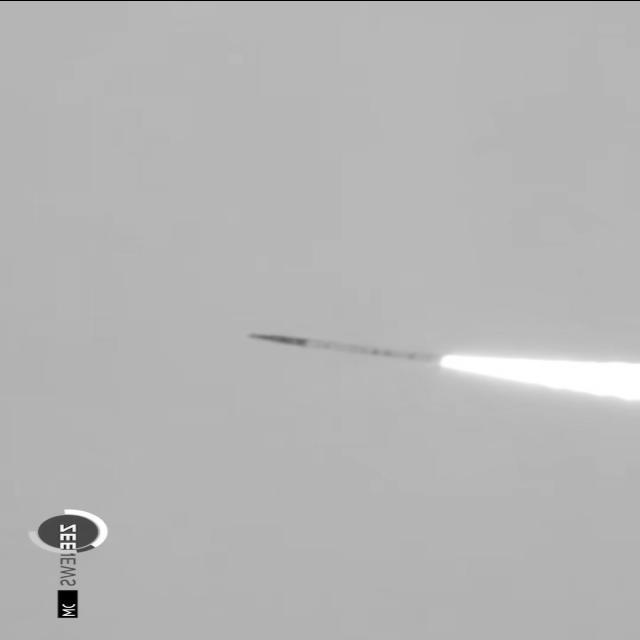missile: (231, 331, 459, 374)
